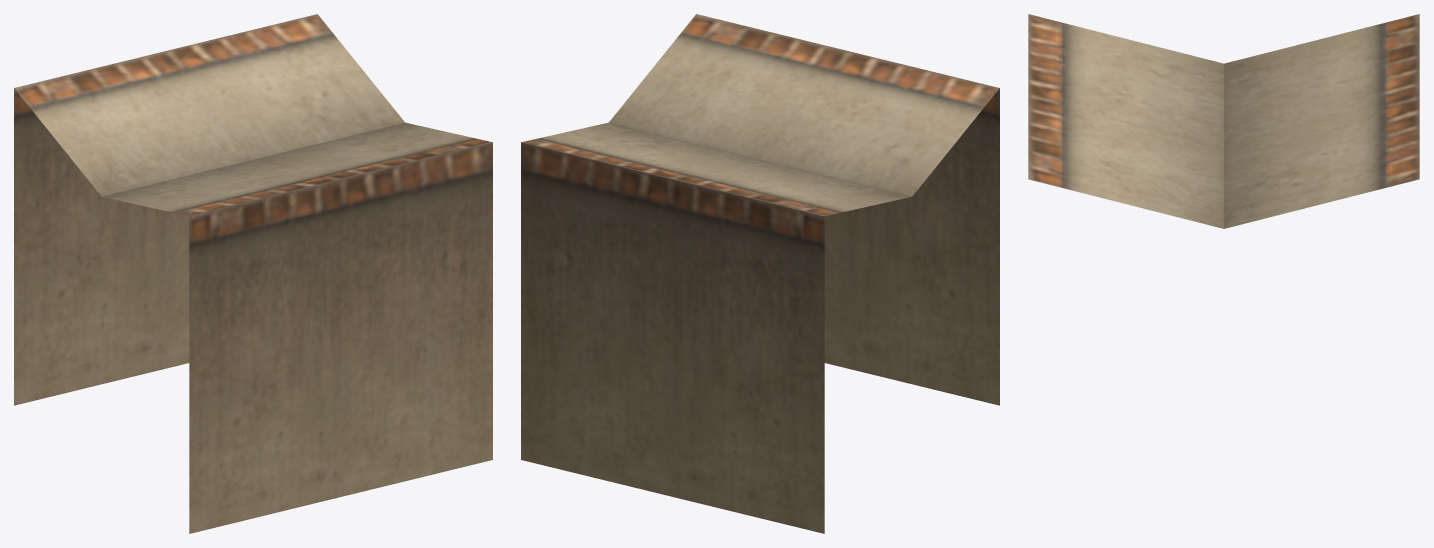
The model's file is sink_road.glb.
3 renders of one model, left to right at view 1: azimuth 30°, elevation 25°; view 2: azimuth 150°, elevation 25°; view 3: azimuth 270°, elevation 25°, orthographic. The views are drawn at different scales.
Parts seen in each view (by area): view 1: Floor_01_11; view 2: Floor_01_11; view 3: Floor_01_11.
Boxes of the visible parts, box(x1,y1,x2,y2) form: Floor_01_11: box(14, 14, 492, 533); Floor_01_11: box(521, 14, 999, 533); Floor_01_11: box(1028, 14, 1419, 228).
Size of the model in its own units: 5 by 5 by 5.
Materials: 2 (2 with a texture image).
